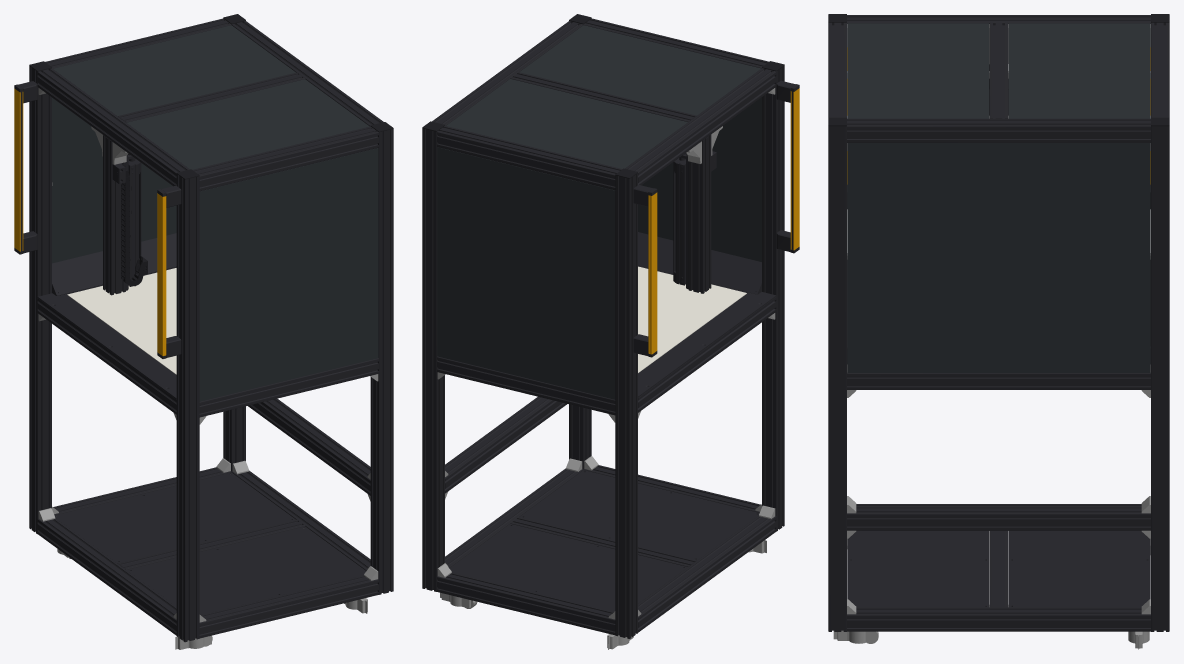
The model's file is cell_base_link.dae.
The picture shows the model from 3 angles, left to right: view 1: azimuth 30°, elevation 25°; view 2: azimuth 150°, elevation 25°; view 3: azimuth 270°, elevation 25°; orthographic projection. The views are drawn at different scales.
Visible parts, largest first — view 1: frame, right_wall, roof_right, roof_left, left_wall, white_sheet, desktop, light_curtain_yellow, hardware, light_curtain_black, guide, cable_chain (+1 smaller); view 2: frame, left_wall, roof_right, roof_left, right_wall, white_sheet, desktop, light_curtain_yellow, guide, hardware, light_curtain_black, plastic; view 3: frame, front_wall, roof_left, roof_right, hardware, plastic.
Part boxes in pixels (left/top/right/bottom): frame: left=29, top=18, right=393, bottom=642; right_wall: left=199, top=148, right=378, bottom=401; roof_right: left=126, top=79, right=369, bottom=169; roof_left: left=53, top=25, right=295, bottom=115; left_wall: left=52, top=98, right=176, bottom=263; white_sheet: left=67, top=268, right=176, bottom=374; desktop: left=37, top=267, right=176, bottom=399; light_curtain_yellow: left=14, top=88, right=166, bottom=355; hardware: left=38, top=88, right=378, bottom=649; light_curtain_black: left=14, top=81, right=181, bottom=358; guide: left=126, top=153, right=141, bottom=290; cable_chain: left=121, top=164, right=147, bottom=286; frame: left=422, top=18, right=784, bottom=638; left_wall: left=437, top=147, right=615, bottom=399; roof_right: left=519, top=25, right=760, bottom=115; roof_left: left=446, top=79, right=687, bottom=168; right_wall: left=638, top=97, right=761, bottom=261; white_sheet: left=638, top=266, right=746, bottom=372; desktop: left=638, top=265, right=776, bottom=397; light_curtain_yellow: left=648, top=88, right=799, bottom=354; guide: left=673, top=153, right=688, bottom=289; hardware: left=437, top=88, right=775, bottom=649; light_curtain_black: left=633, top=80, right=799, bottom=357; plastic: left=422, top=14, right=784, bottom=178; frame: left=828, top=15, right=1169, bottom=631; front_wall: left=847, top=143, right=1150, bottom=372; roof_left: left=1008, top=23, right=1150, bottom=118; roof_right: left=847, top=23, right=989, bottom=118; hardware: left=833, top=24, right=1150, bottom=649; plastic: left=828, top=14, right=1169, bottom=126.
Size of the model in its own units: 0.9256 by 1.1 by 1.89.
